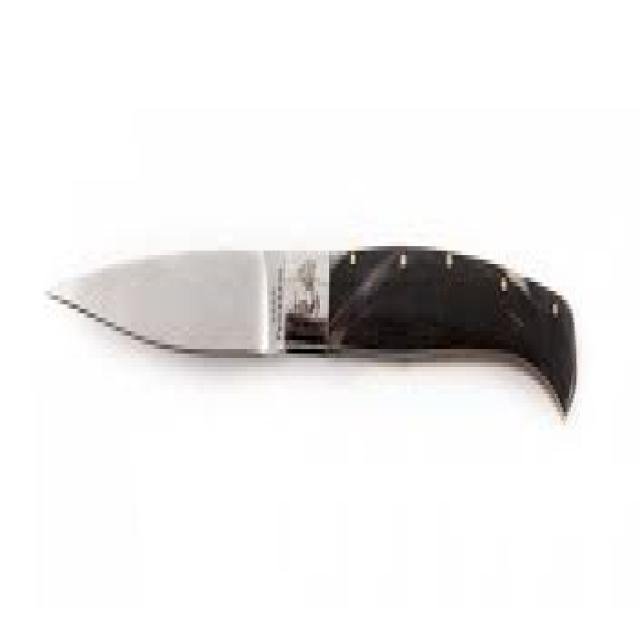knife: (43, 239, 580, 429)
